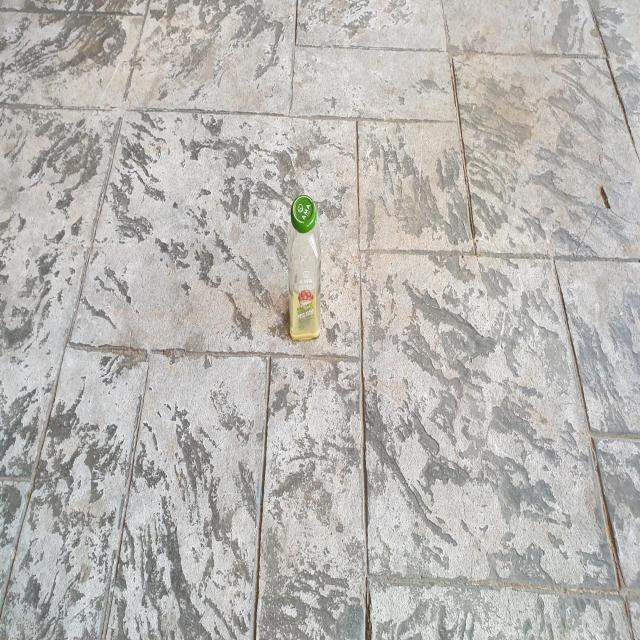glass: (288, 194, 321, 340)
